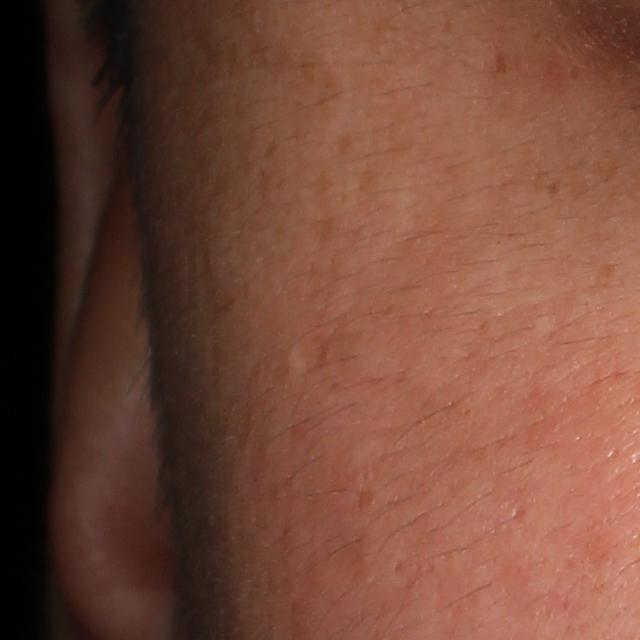melasma: (352, 487, 377, 513), (544, 176, 562, 201), (261, 138, 281, 157)
